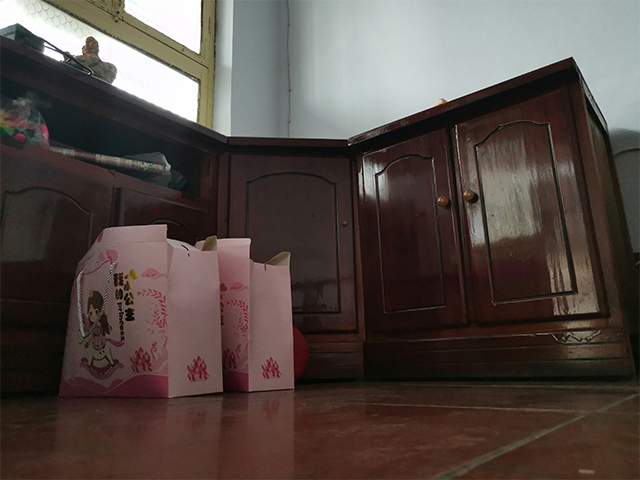cabinet: (284, 55, 637, 390)
